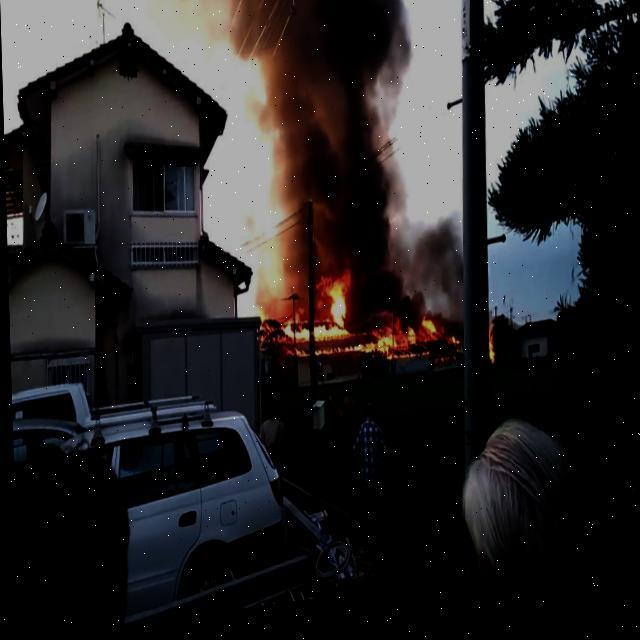Fire: (256, 291, 347, 360), (292, 336, 438, 378), (485, 344, 494, 376), (448, 344, 460, 362)
